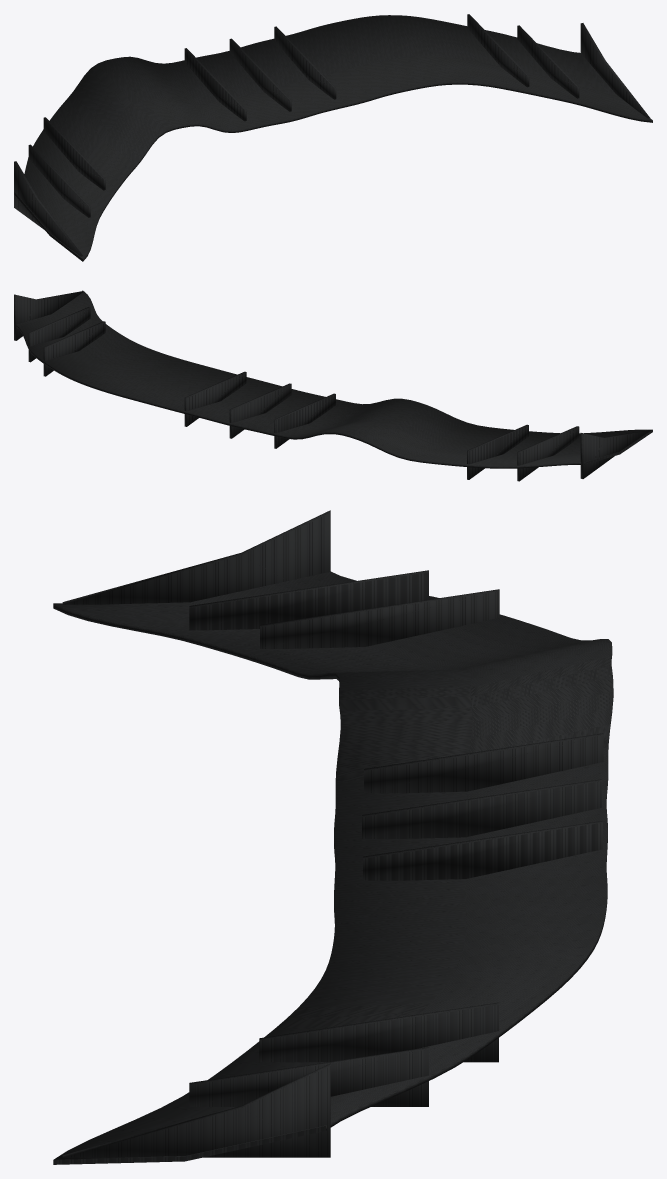
Rendered from WB12_widebody_diffuser.glb.
3 views of the same model, one above another, from view 1: azimuth 30°, elevation 25°; view 2: azimuth 150°, elevation 25°; view 3: azimuth 270°, elevation 25° (orthographic). The views are drawn at different scales.
Parts seen in each view (by area): view 1: MOD_ND_WB12_plate, MOD_ND_WB12_fence_R, MOD_ND_WB12_fence_L, MOD_ND_WB12_strake_1, MOD_ND_WB12_strake_3, MOD_ND_WB12_strake_2, MOD_ND_WB12_strake_4, MOD_ND_WB12_strake_6, MOD_ND_WB12_strake_0, MOD_ND_WB12_strake_5; view 2: MOD_ND_WB12_plate, MOD_ND_WB12_fence_R, MOD_ND_WB12_fence_L, MOD_ND_WB12_strake_0, MOD_ND_WB12_strake_1, MOD_ND_WB12_strake_3, MOD_ND_WB12_strake_4, MOD_ND_WB12_strake_2, MOD_ND_WB12_strake_5, MOD_ND_WB12_strake_6; view 3: MOD_ND_WB12_plate, MOD_ND_WB12_fence_L, MOD_ND_WB12_fence_R, MOD_ND_WB12_strake_5, MOD_ND_WB12_strake_2, MOD_ND_WB12_strake_4, MOD_ND_WB12_strake_3, MOD_ND_WB12_strake_1, MOD_ND_WB12_strake_0, MOD_ND_WB12_strake_6.
Boxes of the visible parts, bbox=[...] form: MOD_ND_WB12_plate: bbox=[14, 15, 652, 261]; MOD_ND_WB12_fence_R: bbox=[14, 161, 82, 256]; MOD_ND_WB12_fence_L: bbox=[580, 23, 649, 118]; MOD_ND_WB12_strake_1: bbox=[43, 117, 105, 190]; MOD_ND_WB12_strake_3: bbox=[229, 38, 291, 111]; MOD_ND_WB12_strake_2: bbox=[184, 48, 246, 121]; MOD_ND_WB12_strake_4: bbox=[274, 26, 336, 99]; MOD_ND_WB12_strake_6: bbox=[517, 25, 579, 98]; MOD_ND_WB12_strake_0: bbox=[28, 144, 90, 217]; MOD_ND_WB12_strake_5: bbox=[467, 14, 529, 87]; MOD_ND_WB12_plate: bbox=[16, 290, 652, 468]; MOD_ND_WB12_fence_R: bbox=[580, 429, 649, 478]; MOD_ND_WB12_fence_L: bbox=[14, 291, 82, 340]; MOD_ND_WB12_strake_0: bbox=[517, 426, 579, 481]; MOD_ND_WB12_strake_1: bbox=[467, 424, 528, 479]; MOD_ND_WB12_strake_3: bbox=[229, 383, 291, 438]; MOD_ND_WB12_strake_4: bbox=[184, 371, 246, 426]; MOD_ND_WB12_strake_2: bbox=[274, 393, 335, 448]; MOD_ND_WB12_strake_5: bbox=[43, 321, 105, 376]; MOD_ND_WB12_strake_6: bbox=[28, 307, 90, 362]; MOD_ND_WB12_plate: bbox=[53, 571, 613, 1164]; MOD_ND_WB12_fence_L: bbox=[62, 1063, 330, 1157]; MOD_ND_WB12_fence_R: bbox=[62, 510, 330, 604]; MOD_ND_WB12_strake_5: bbox=[259, 1002, 498, 1062]; MOD_ND_WB12_strake_2: bbox=[364, 733, 603, 793]; MOD_ND_WB12_strake_4: bbox=[363, 821, 602, 880]; MOD_ND_WB12_strake_3: bbox=[362, 779, 601, 838]; MOD_ND_WB12_strake_1: bbox=[260, 589, 499, 648]; MOD_ND_WB12_strake_0: bbox=[189, 570, 428, 630]; MOD_ND_WB12_strake_6: bbox=[189, 1047, 428, 1106].
Size of the model in its own units: 1.4 by 0.1398 by 0.5958.
1 material, 1 textured.
